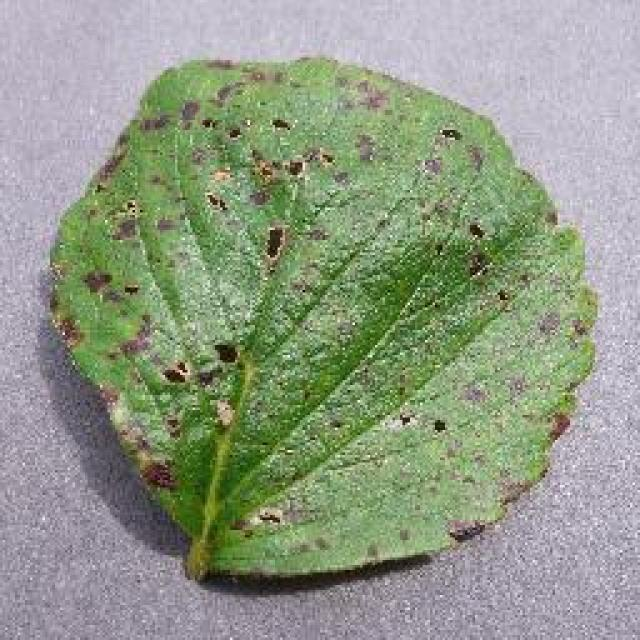Strawberry leaf scorch: (83, 95, 480, 512)
